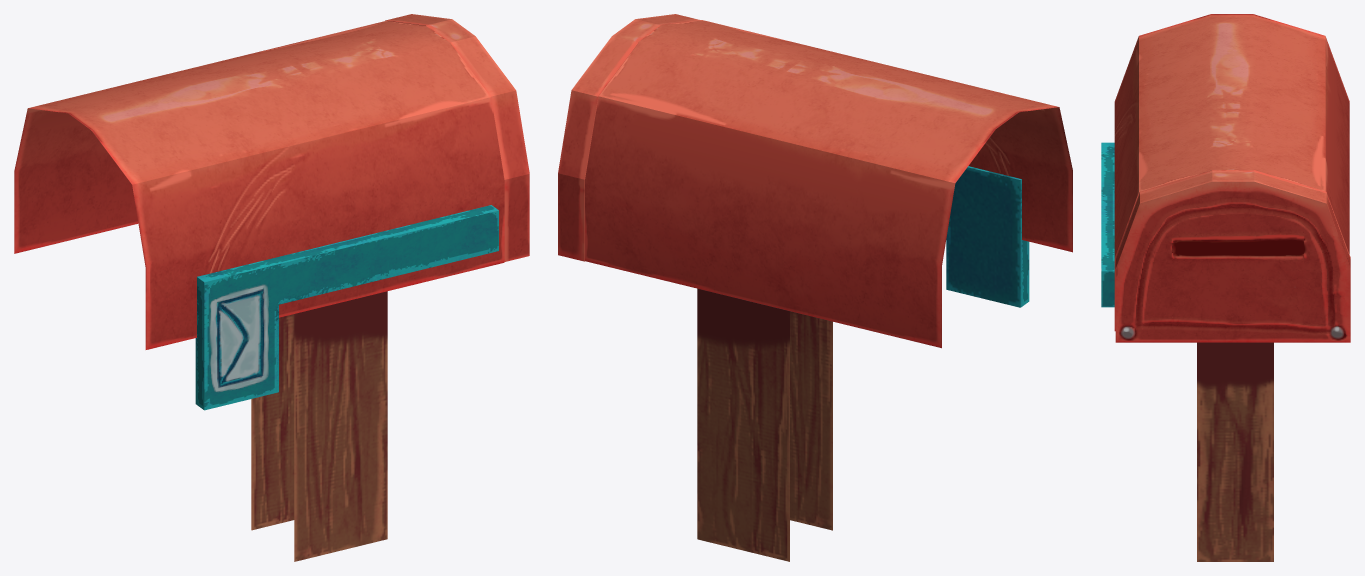
Rendered from boiteAuxLettresAttached.fbx.
3 views of the same model, side by side, from view 1: azimuth 30°, elevation 25°; view 2: azimuth 150°, elevation 25°; view 3: azimuth 270°, elevation 25° (orthographic). The views are drawn at different scales.
Visible parts, largest first — view 1: Box025; view 2: Box025; view 3: Box025.
Boxes of the visible parts, x1=… form: Box025: x1=14, y1=14, x2=529, y2=561; Box025: x1=558, y1=14, x2=1072, y2=561; Box025: x1=1101, y1=14, x2=1350, y2=561.
Bounding box in the file's own units: 86.55 × 102 × 54.39.
